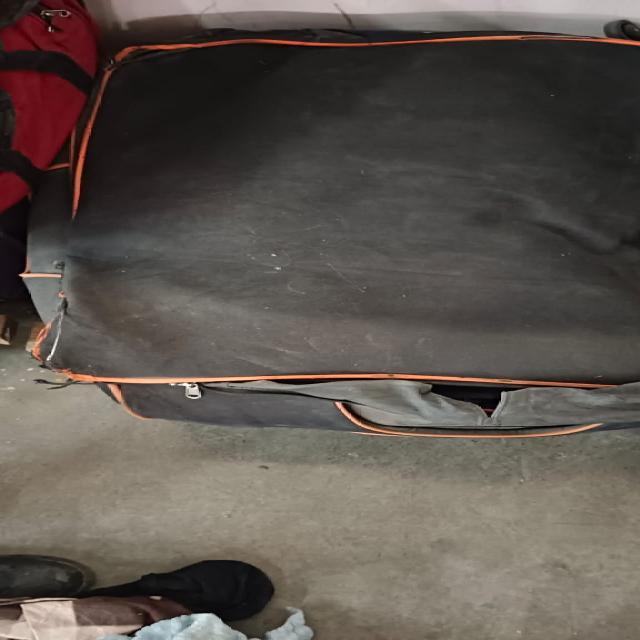Damage-bag: (208, 380, 639, 436)
